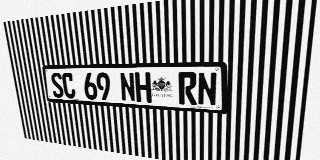6: (82, 72, 98, 100)
9: (96, 72, 111, 101)
C: (61, 72, 76, 99)
H: (134, 72, 152, 103)
N: (197, 72, 217, 106), (119, 72, 136, 102)
R: (178, 72, 197, 105)
S: (50, 72, 64, 98)
